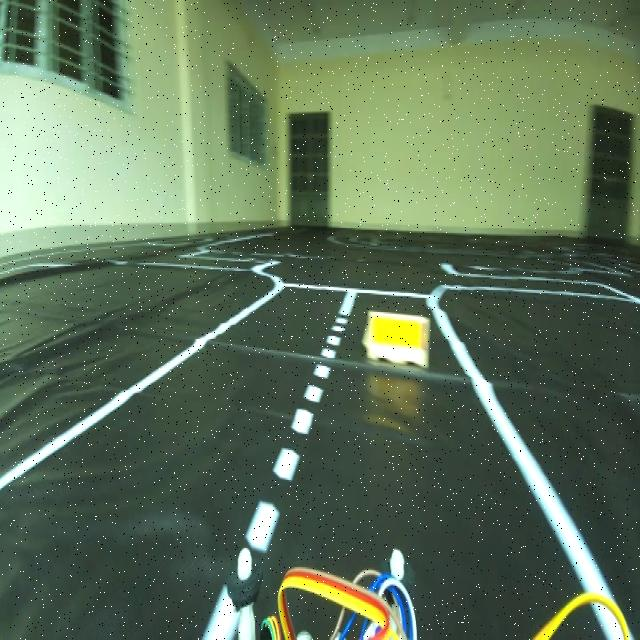roadblock: (356, 303, 438, 385)
